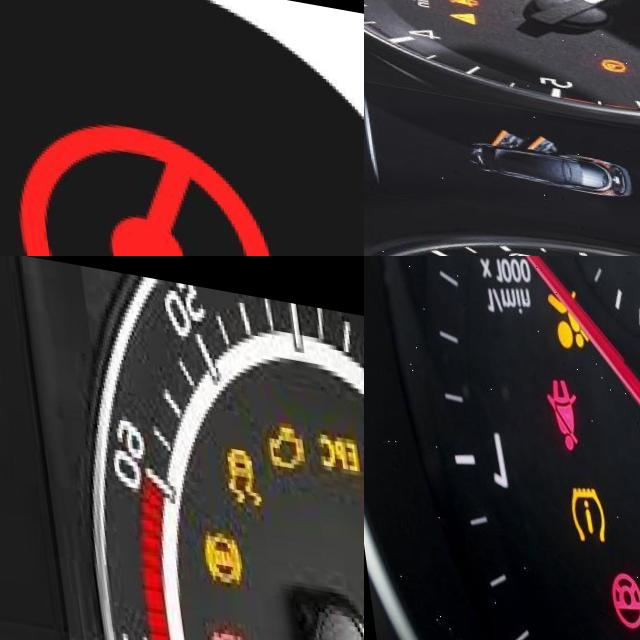Electronic Power Steering: (0, 92, 289, 256)
Electronic Power Steering Warning: (597, 559, 640, 621)
Seat Belt: (540, 366, 581, 445), (437, 0, 477, 5)
